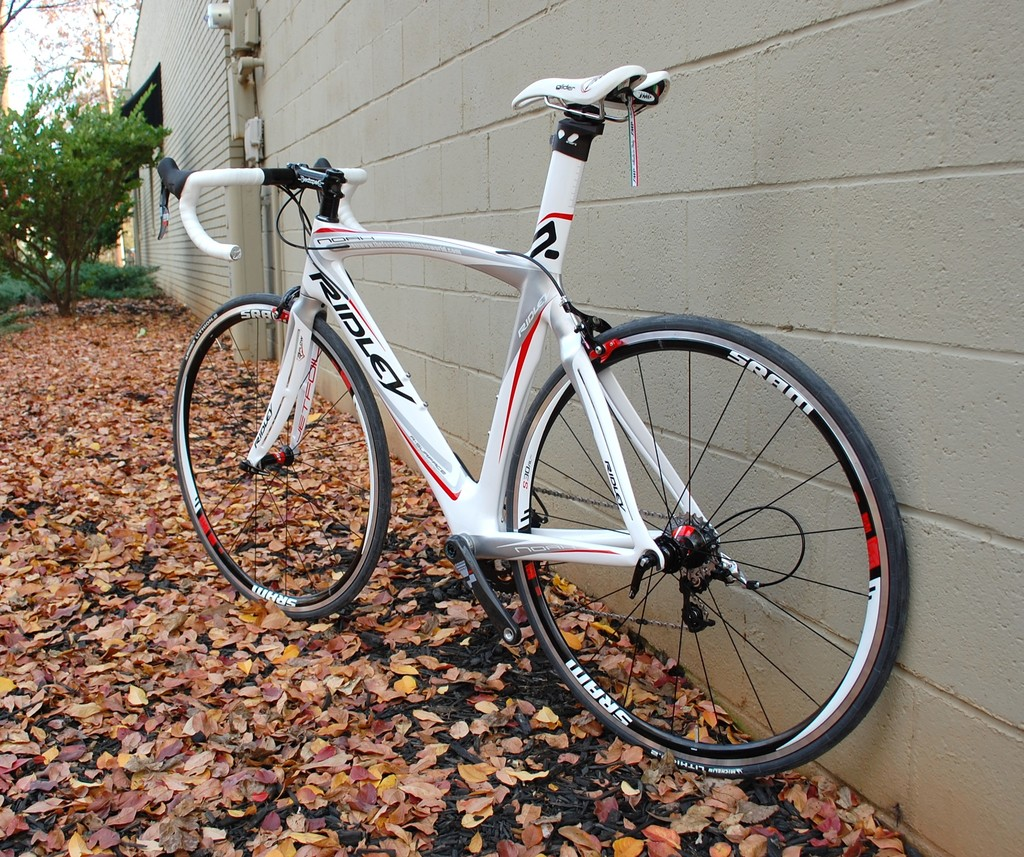Bike: (163, 153, 877, 784)
